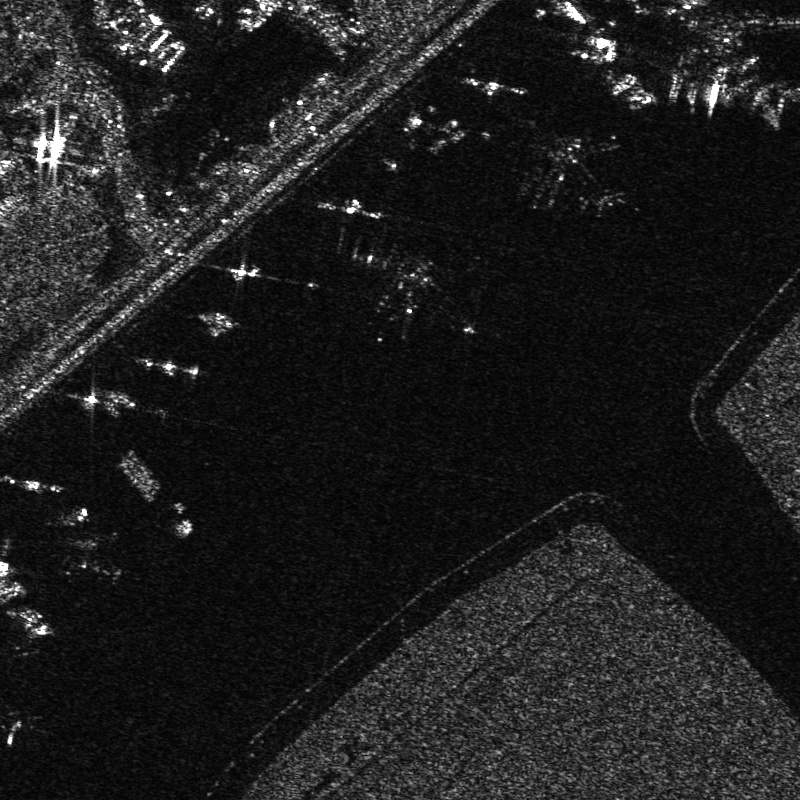Boeing737: (518, 124, 631, 221)
other: (363, 227, 474, 349), (47, 497, 134, 586)
